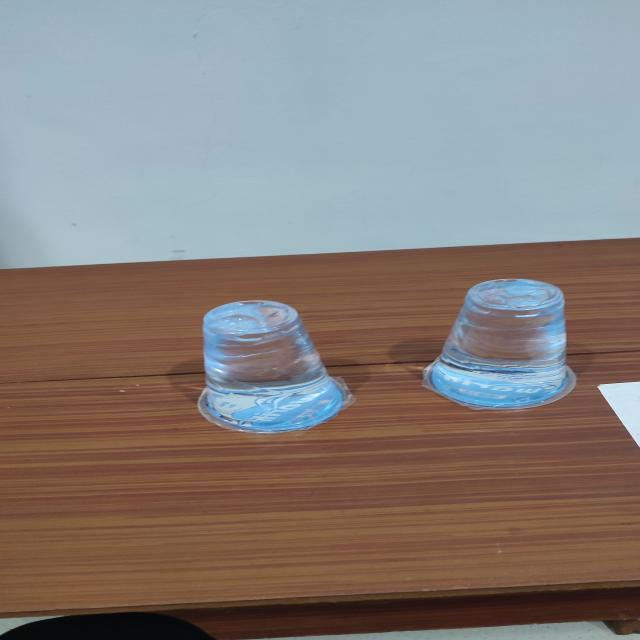air gelas: (426, 272, 585, 410), (191, 305, 355, 435)
